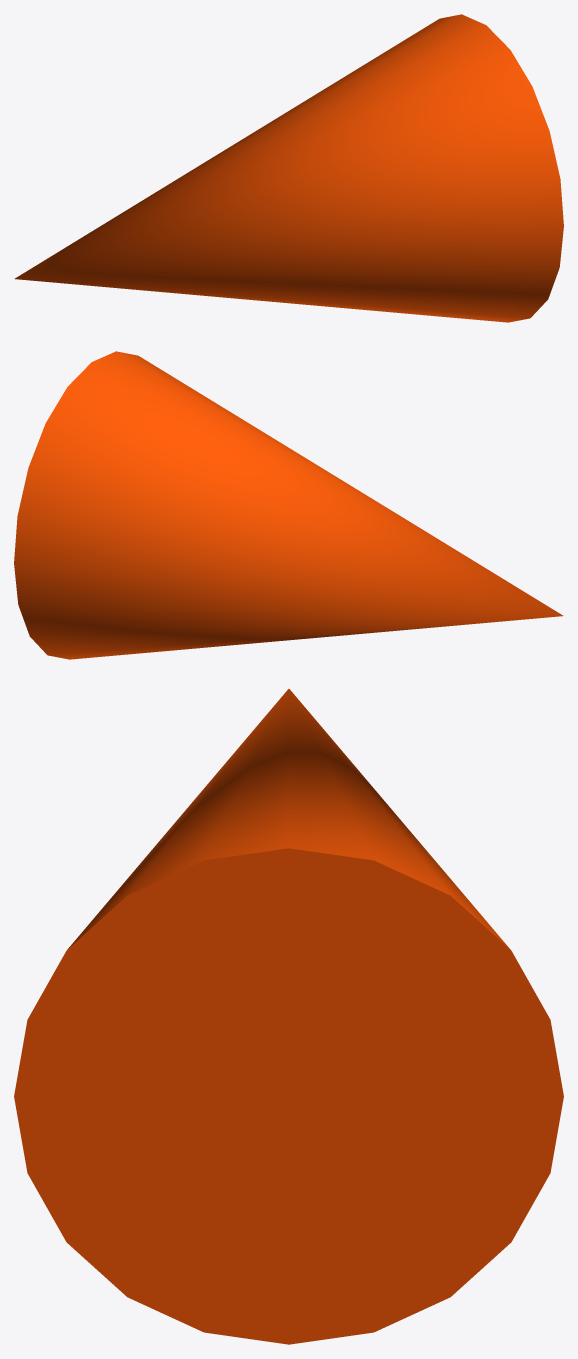
Rendered from lightcone.fbx.
3 views of the same model, one above another, from view 1: azimuth 30°, elevation 25°; view 2: azimuth 150°, elevation 25°; view 3: azimuth 270°, elevation 25° (orthographic). The views are drawn at different scales.
Visible parts, largest first — view 1: pCone1; view 2: pCone1; view 3: pCone1.
Part boxes in pixels (x1,y1,x2,y2): pCone1: (14, 14, 563, 322); pCone1: (14, 351, 563, 659); pCone1: (14, 689, 563, 1344).
Size of the model in its own units: 17.09 by 9.89 by 9.89.
